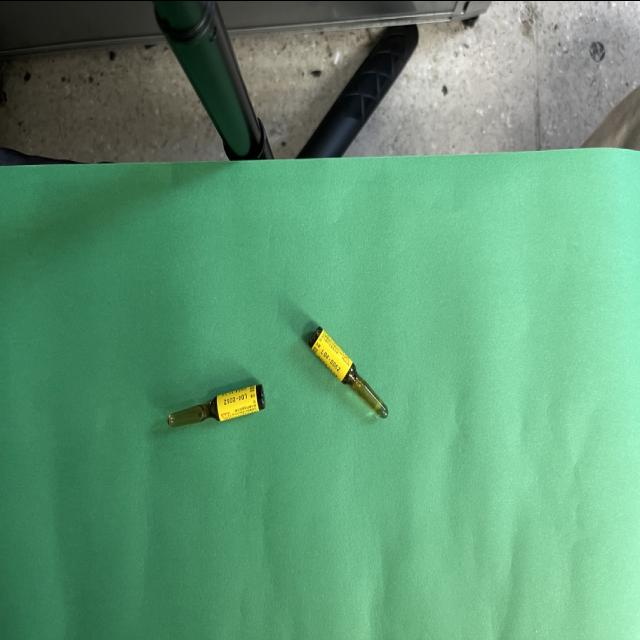Ampoules: (310, 326, 388, 416), (168, 383, 266, 426)
